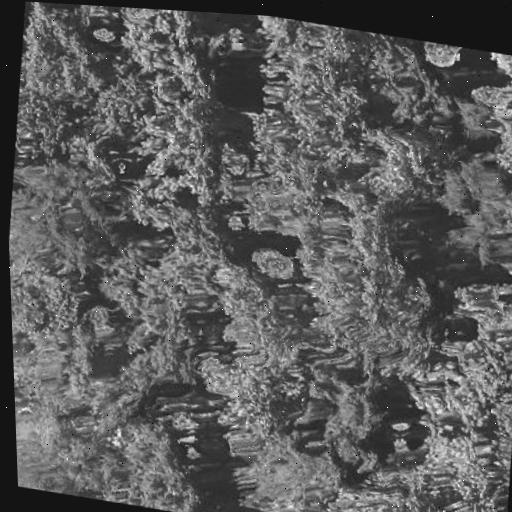tree-top: (84, 228, 210, 377), (5, 142, 129, 288), (255, 18, 376, 144), (108, 72, 225, 193), (88, 412, 206, 512), (425, 143, 512, 278), (10, 257, 91, 373), (22, 5, 109, 112), (362, 36, 460, 130), (216, 276, 309, 374), (225, 434, 341, 512), (442, 274, 512, 400), (360, 117, 442, 216), (315, 375, 397, 459), (114, 7, 203, 82), (457, 72, 512, 176), (242, 237, 303, 293), (200, 12, 252, 61), (418, 41, 464, 76), (480, 50, 512, 87)
